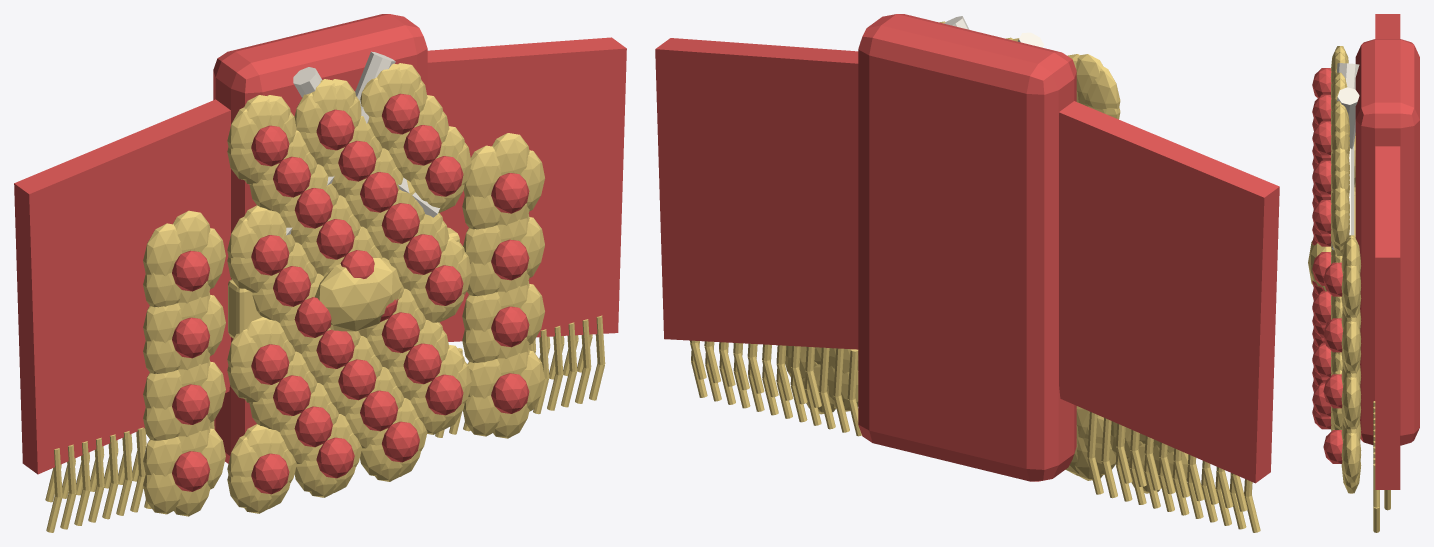
The model's file is noh_costume_karaori.glb.
The picture shows the model from 3 angles, left to right: view 1: azimuth 30°, elevation 25°; view 2: azimuth 150°, elevation 25°; view 3: azimuth 270°, elevation 25°; orthographic projection. The views are drawn at different scales.
Parts seen in each view (by area): view 1: Rich brocade karaori noh robe left ample sleeve, Rich brocade karaori noh robe right ample sleeve, Rich brocade karaori noh robe embroidered chrysanthemum peta (×28), Rich brocade karaori noh robe long body, Rich brocade karaori noh robe embroidered chrysanthemum cent (×8), Rich brocade karaori noh robe central ornate knot, Rich brocade karaori noh robe decorative sash, Gold kikkou woven silk center.027, Gold kikkou woven silk center, Gold kikkou woven silk center.022, Gold kikkou woven silk center.002, Gold kikkou woven silk center.016 (+35 smaller); view 2: Rich brocade karaori noh robe long body, Rich brocade karaori noh robe left ample sleeve, Rich brocade karaori noh robe right ample sleeve, Gold kikkou woven silk petal.024, Gold kikkou woven silk petal.023; view 3: Rich brocade karaori noh robe long body, Rich brocade karaori noh robe right ample sleeve, Rich brocade karaori noh robe embroidered chrysanthemum peta (×9), Rich brocade karaori noh robe embroidered chrysanthemum cent (×4), Rich brocade karaori noh robe left ample sleeve, Rich brocade karaori noh robe crossed ivory collars_00.001, Gold kikkou woven silk petal.203, Gold kikkou woven silk center.023, Gold kikkou woven silk center.026, Gold kikkou woven silk center.029, Gold kikkou woven silk center.028, Gold kikkou woven silk center.024 (+24 smaller).
Part boxes in pixels (x1,y1,x2,y2): Rich brocade karaori noh robe left ample sleeve: (14,99,230,474); Rich brocade karaori noh robe right ample sleeve: (427,37,626,341); Rich brocade karaori noh robe embroidered chrysanthemum peta (×28): (143,133,544,516); Rich brocade karaori noh robe long body: (213,14,427,463); Rich brocade karaori noh robe embroidered chrysanthemum cent (×8): (172,173,529,491); Rich brocade karaori noh robe central ornate knot: (315,258,401,331); Rich brocade karaori noh robe decorative sash: (228,227,459,338); Gold kikkou woven silk center.027: (425,374,463,415); Gold kikkou woven silk center: (251,453,289,494); Gold kikkou woven silk center.022: (381,203,419,243); Gold kikkou woven silk center.002: (251,235,289,275); Gold kikkou woven silk center.016: (338,140,376,181); Rich brocade karaori noh robe long body: (858,14,1076,481); Rich brocade karaori noh robe left ample sleeve: (1059,101,1279,483); Rich brocade karaori noh robe right ample sleeve: (655,38,858,349); Gold kikkou woven silk petal.024: (1084,67,1120,109); Gold kikkou woven silk petal.023: (1076,54,1103,104); Rich brocade karaori noh robe long body: (1355,39,1419,445); Rich brocade karaori noh robe right ample sleeve: (1375,146,1400,489); Rich brocade karaori noh robe embroidered chrysanthemum peta (×9): (1341,238,1361,493); Rich brocade karaori noh robe embroidered chrysanthemum cent (×4): (1323,262,1342,463); Rich brocade karaori noh robe left ample sleeve: (1375,14,1400,38); Rich brocade karaori noh robe crossed ivory collars_00.001: (1337,87,1359,148); Gold kikkou woven silk petal.203: (1331,209,1349,246); Gold kikkou woven silk center.023: (1312,121,1331,155); Gold kikkou woven silk center.026: (1312,160,1331,194); Gold kikkou woven silk center.029: (1312,200,1331,233); Gold kikkou woven silk center.028: (1312,291,1331,325); Gold kikkou woven silk center.024: (1312,343,1331,377).
Size of the model in its own units: 1.95 by 1.35 by 0.3786.
